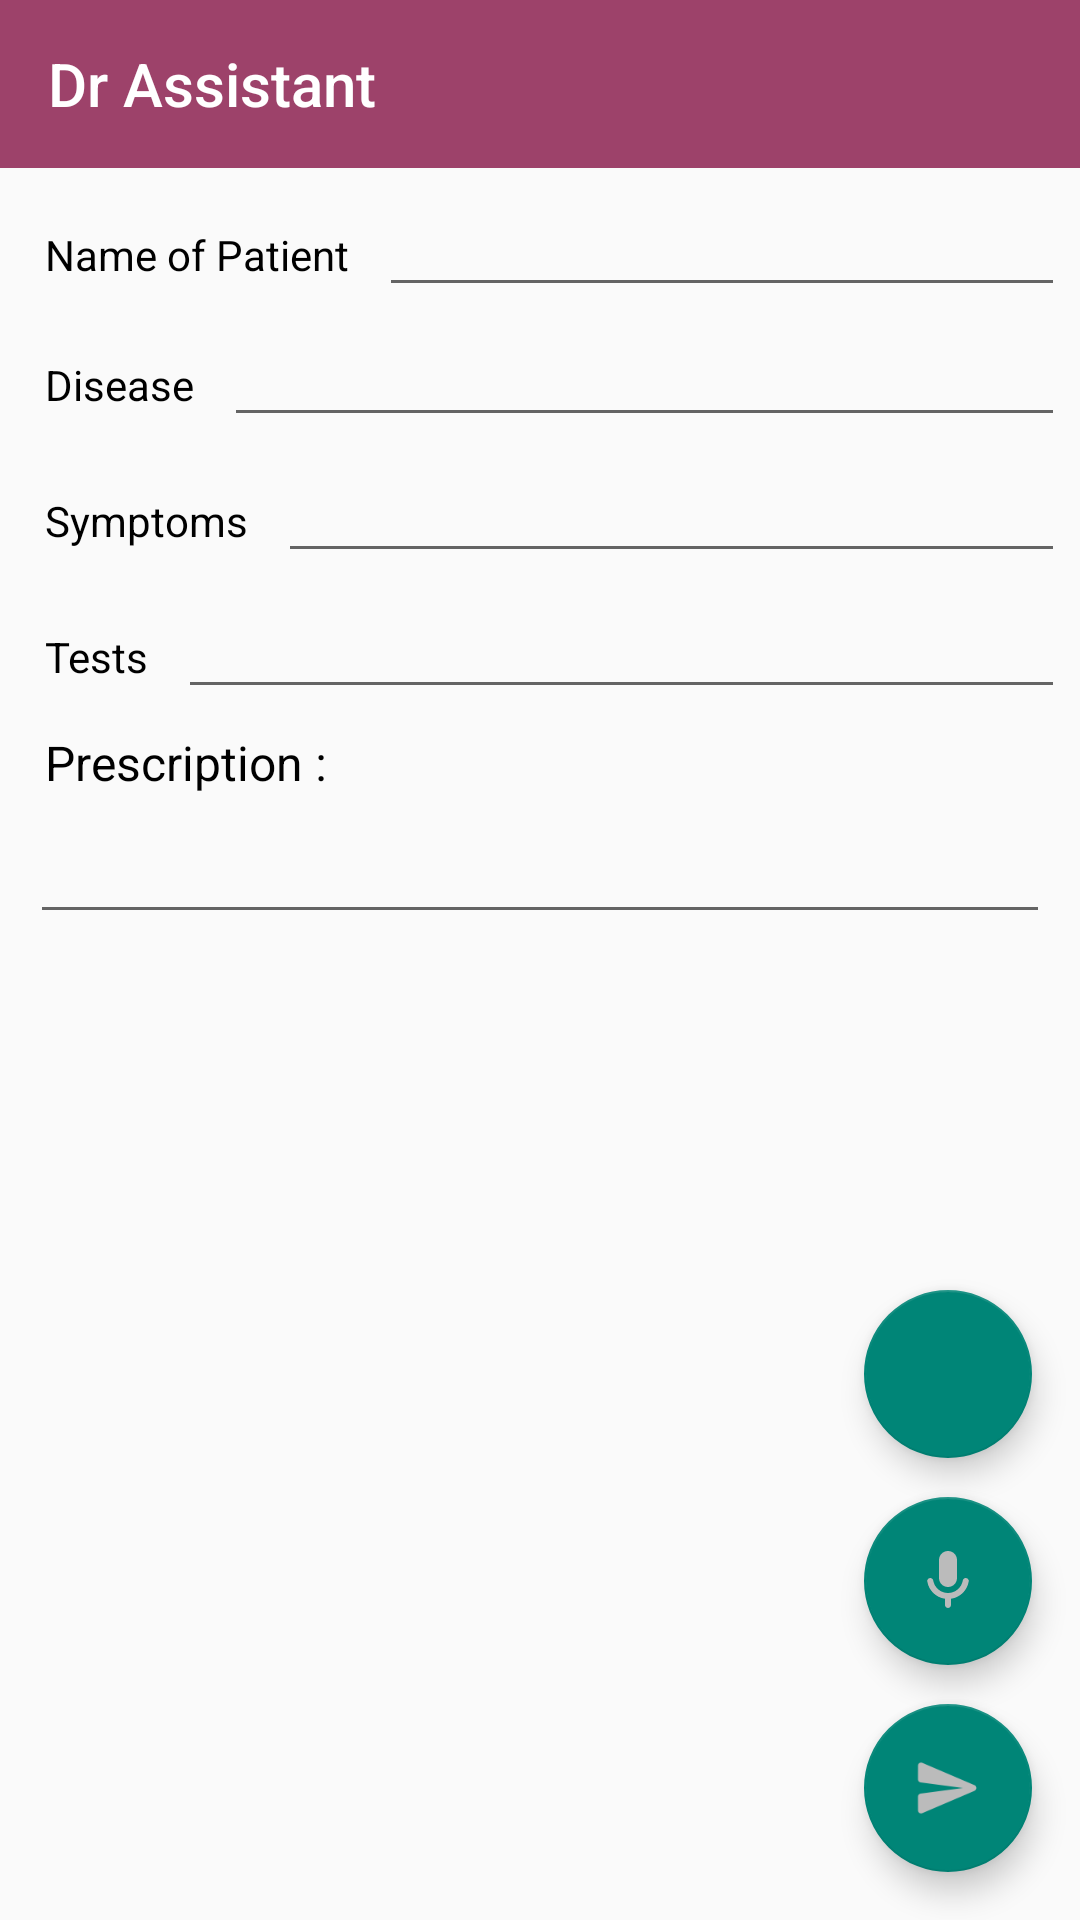

Named icons in this screenshot (1080×1920) and their centers, (x=x, y=y):
mic: (x=948, y=1581)
send: (x=948, y=1788)
